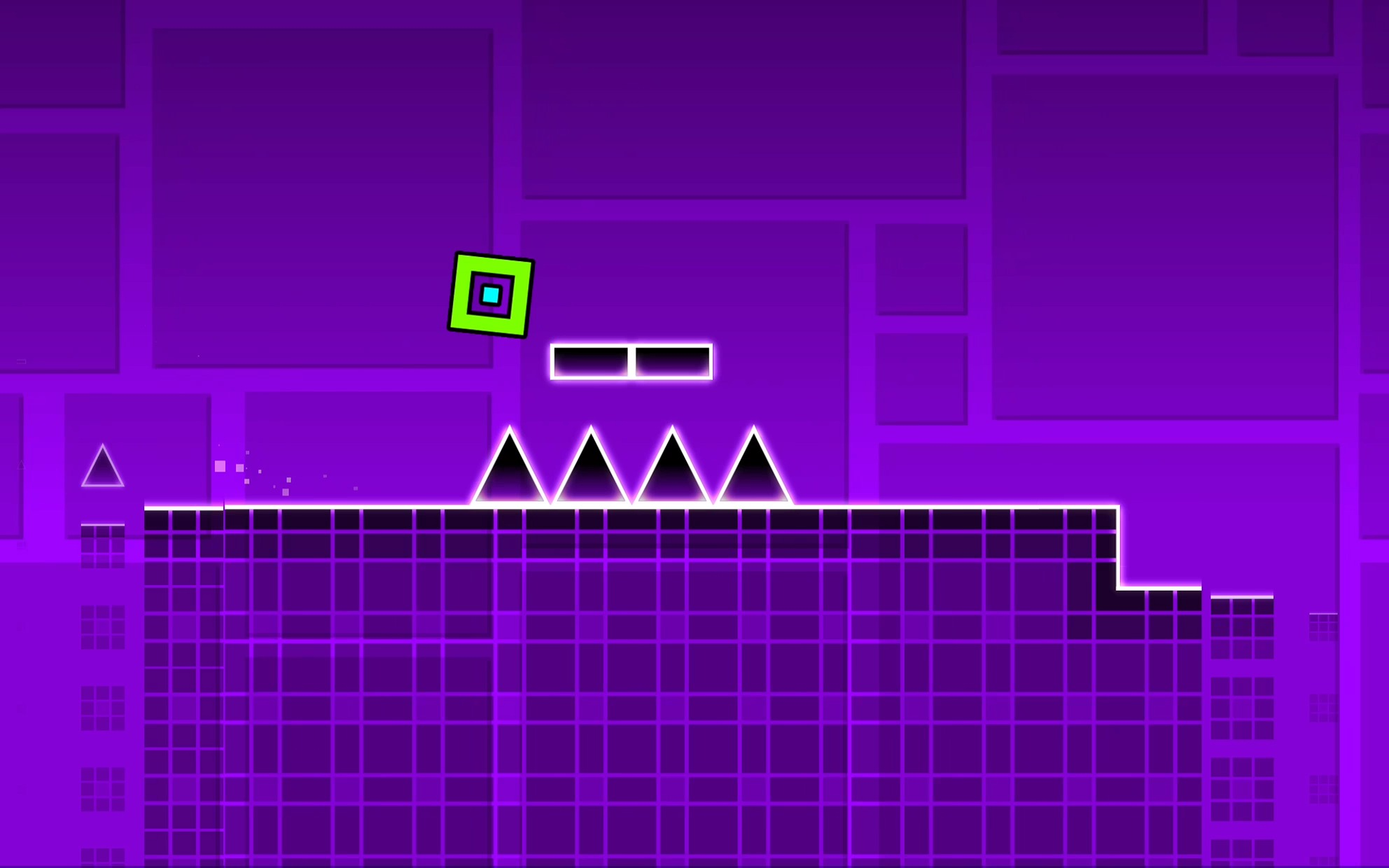Block2: (139, 507, 1119, 863), (1119, 585, 1282, 868)
Block3: (547, 344, 713, 381)
Player: (449, 253, 533, 336)
Spike: (717, 426, 790, 504), (473, 426, 545, 502), (636, 427, 709, 501), (554, 427, 626, 501), (81, 442, 124, 486)
